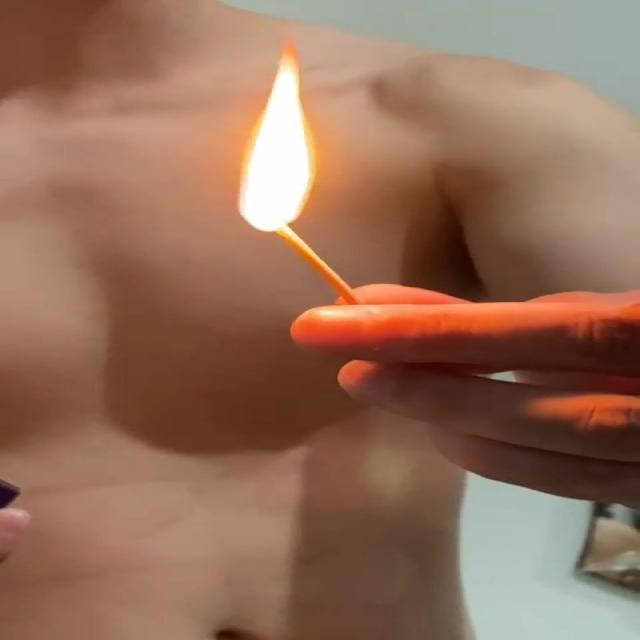fire: (200, 27, 337, 245)
